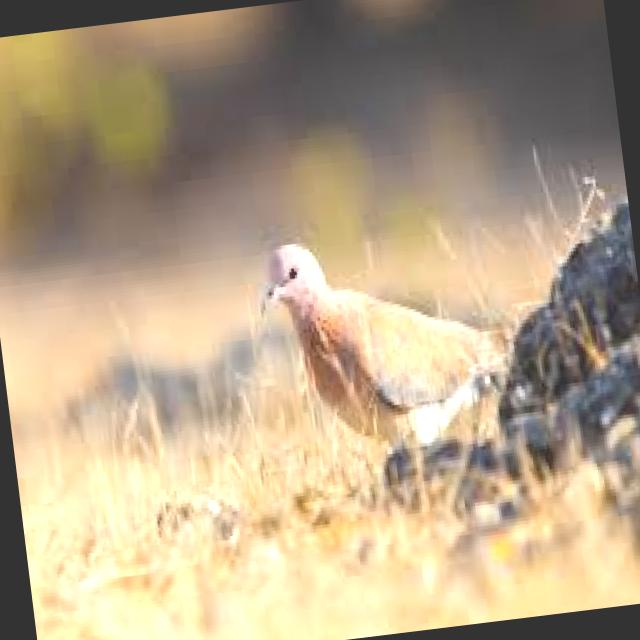bird: (238, 214, 534, 501)
